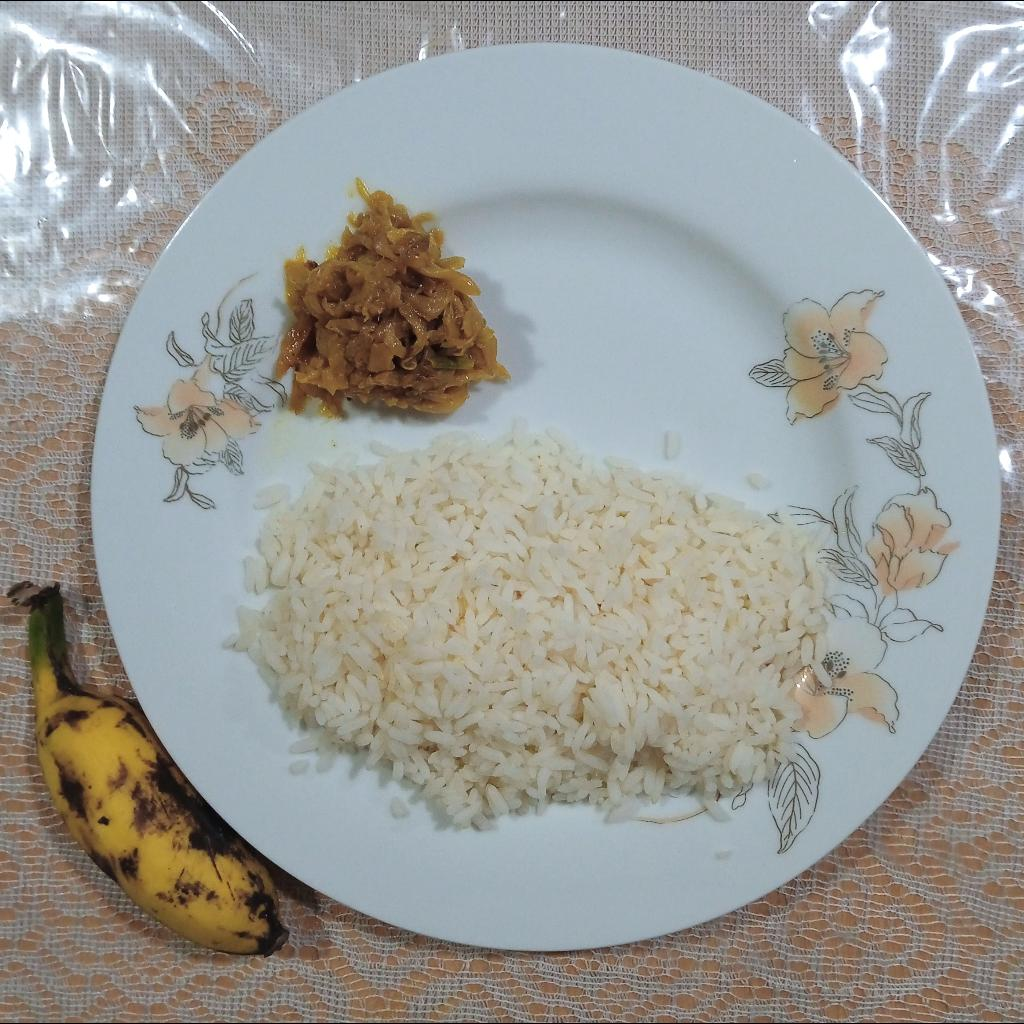banana: (25, 590, 292, 962)
cabbage: (261, 183, 517, 429)
rice: (194, 409, 849, 856)
